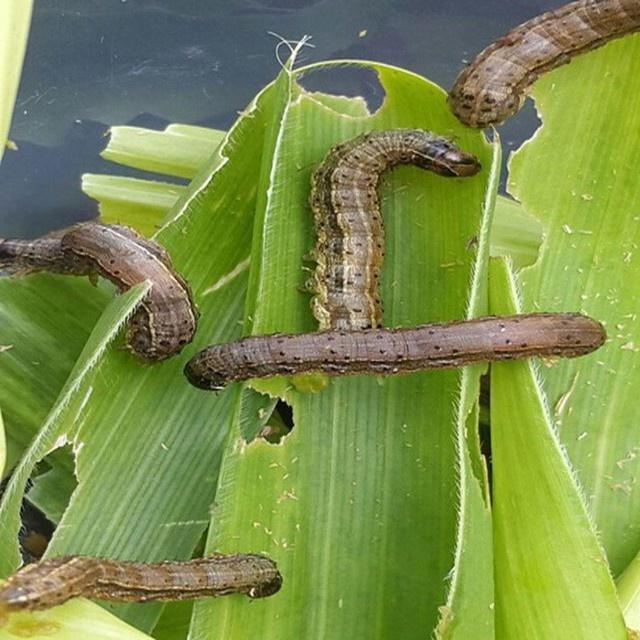gusano_cogollero: (178, 309, 608, 396), (0, 546, 285, 612)
